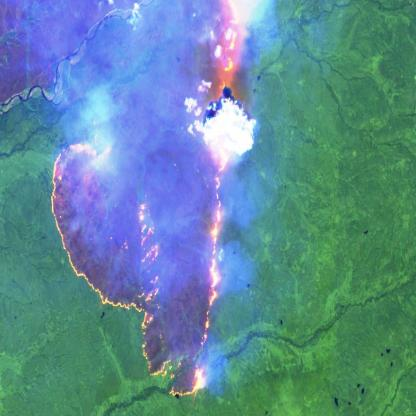fire: (50, 0, 250, 402)
